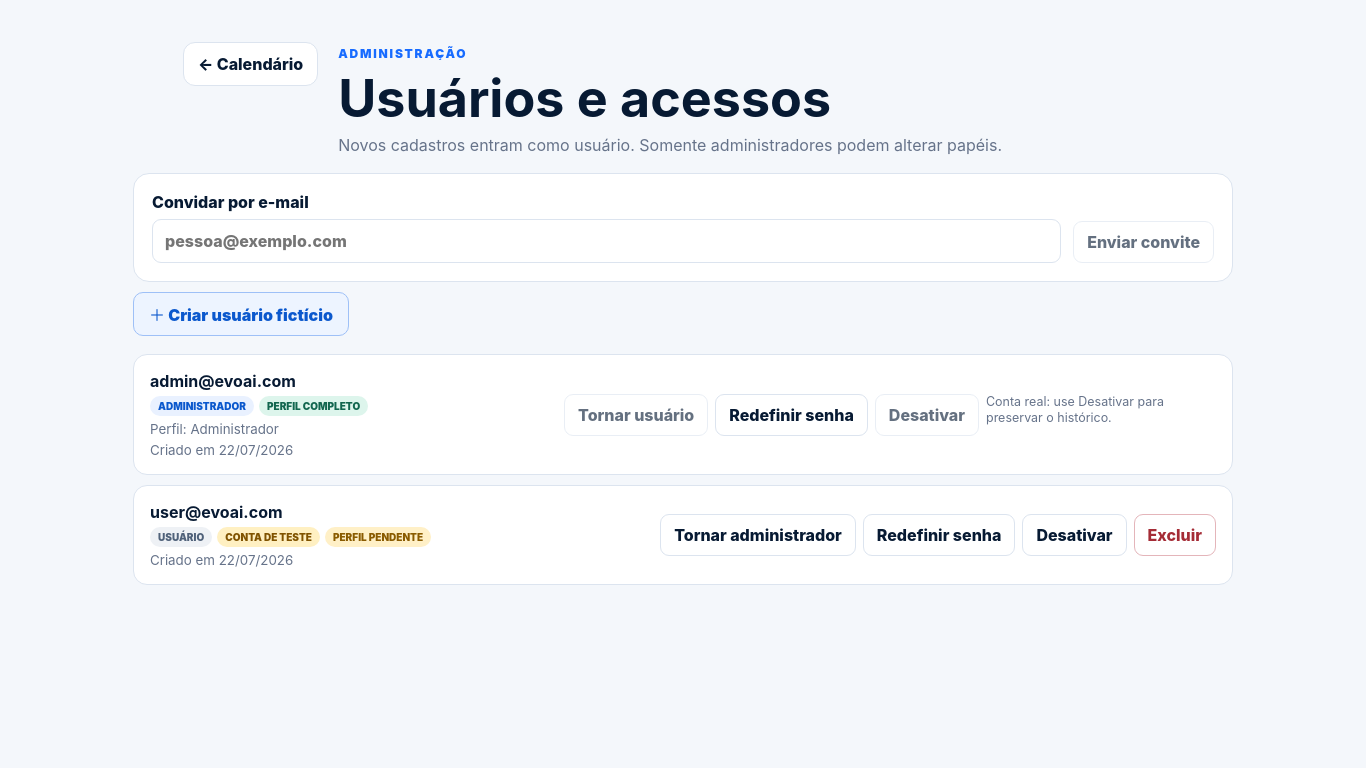
Test: administração de usuários › mantém o diálogo aberto e mostra o erro de exclusão
The image size is (1366, 768).
Expected: the text "user@evoai.com" is shown, x1=150 y1=502 x2=282 y2=522
Click the button "Excluir" at (1175, 535), box x1=1134 y1=514 x2=1216 y2=556
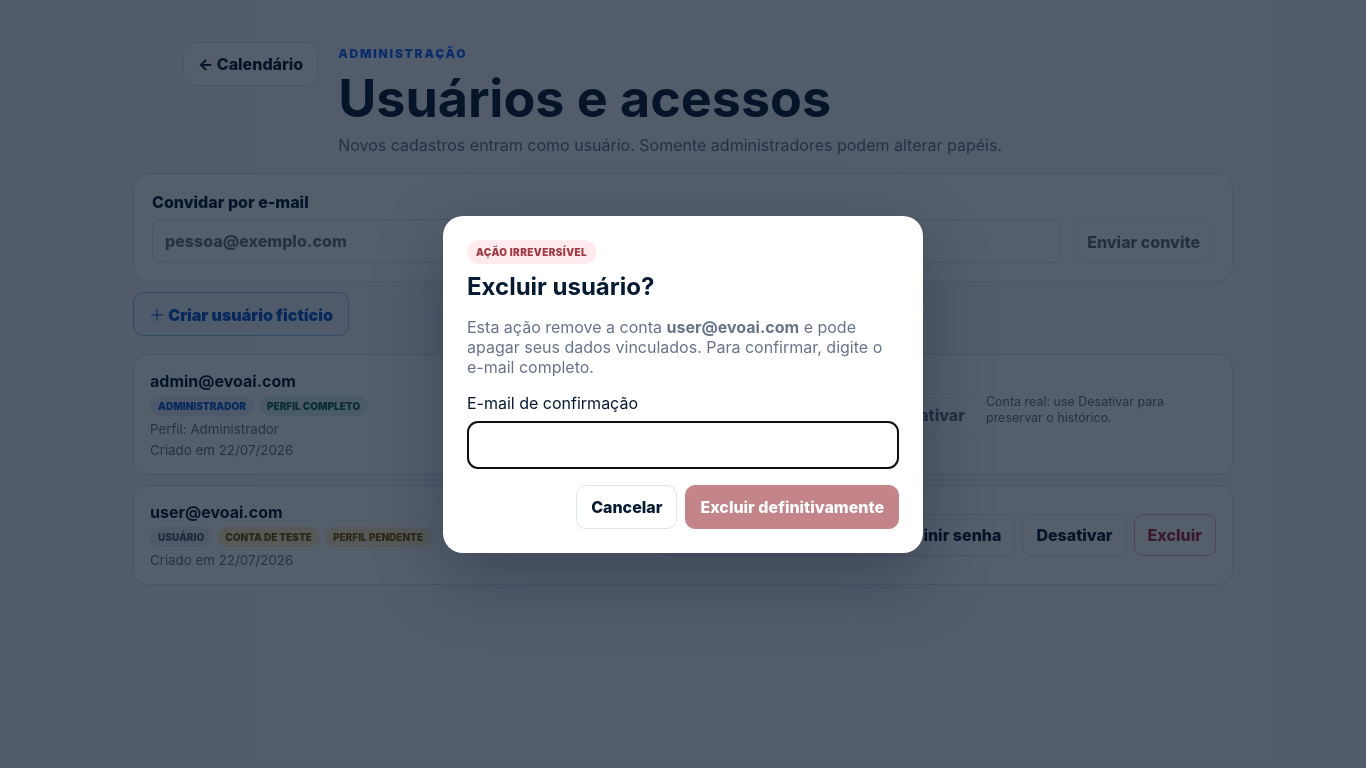
Type "user@evoai.com" into the field labelled "E-mail de confirmação" at (683, 444), box x1=467 y1=420 x2=899 y2=468
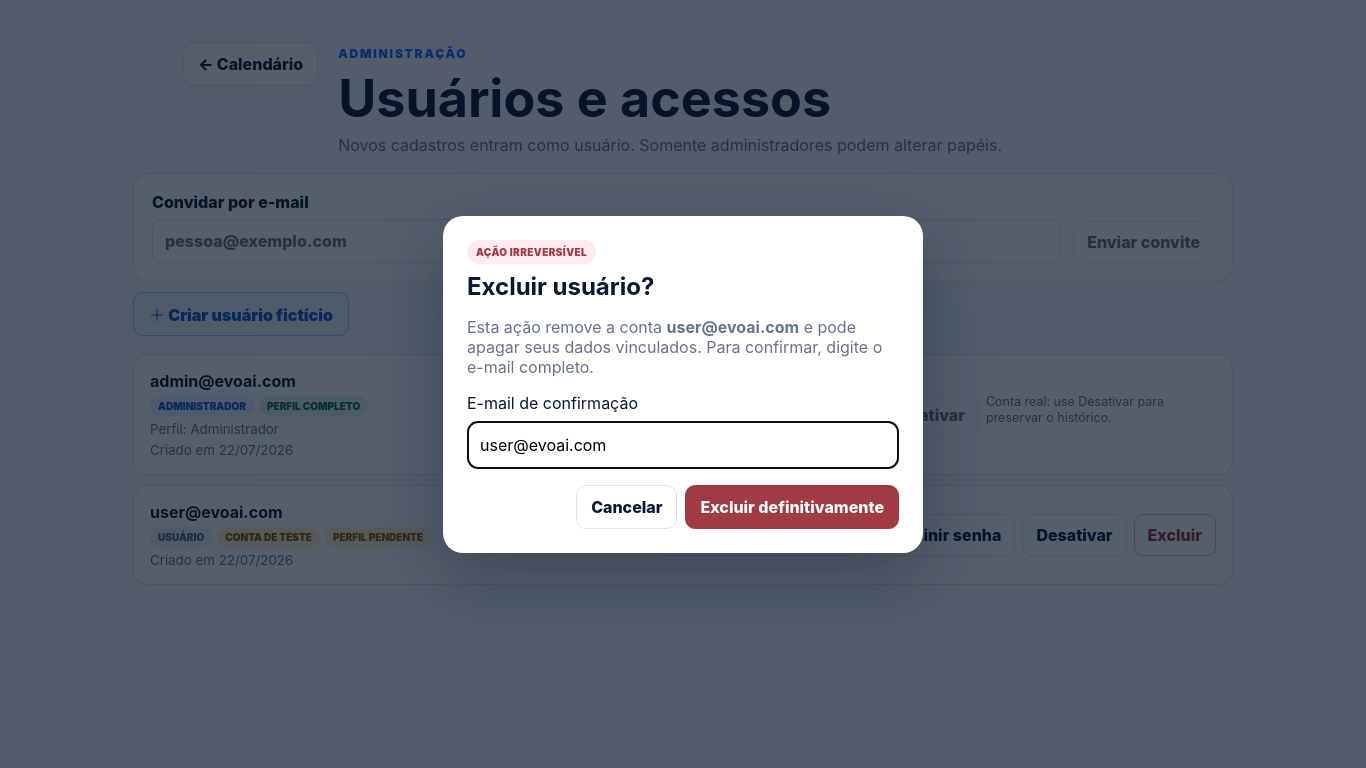
Click the button "Excluir definitivamente" at (792, 506), box x1=685 y1=484 x2=899 y2=528
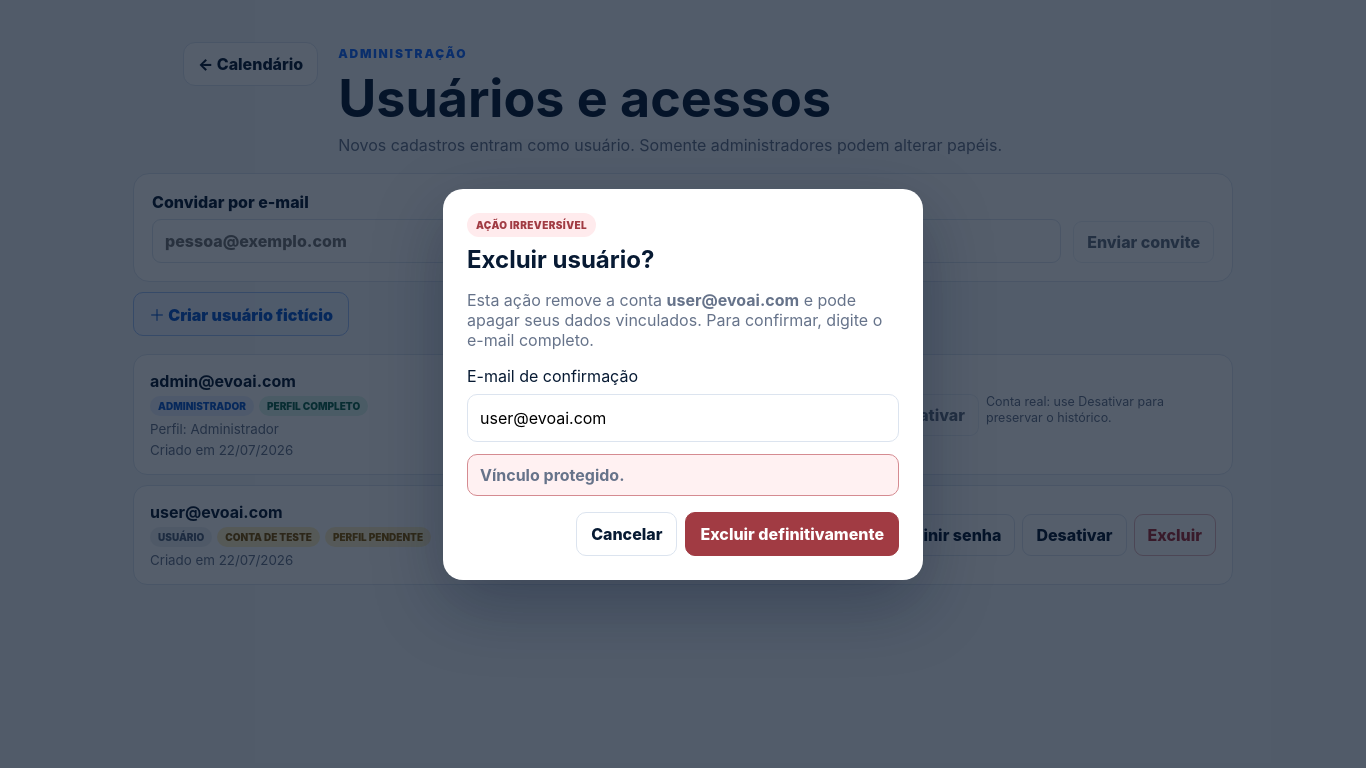
Expected: the dialog is shown, x1=443 y1=188 x2=923 y2=580
Expected: the message reads "Vínculo protegido.", x1=480 y1=464 x2=624 y2=484
